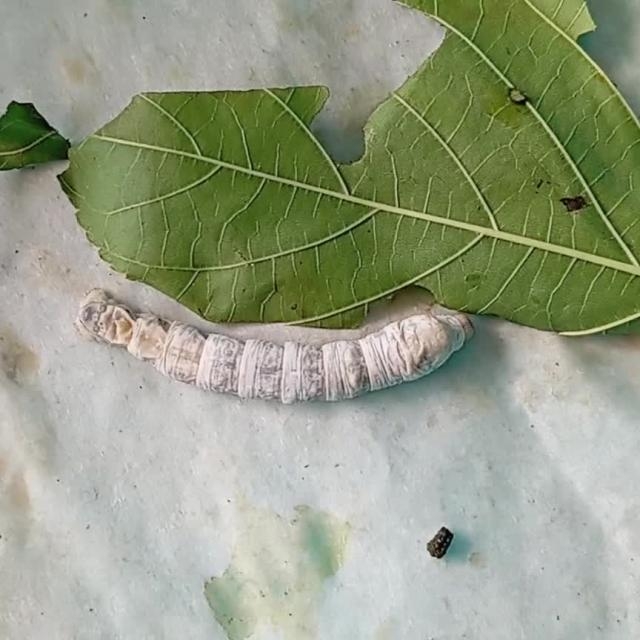Grasserie: (67, 274, 485, 419)
